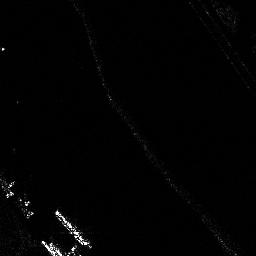ship: (50, 207, 93, 249)
